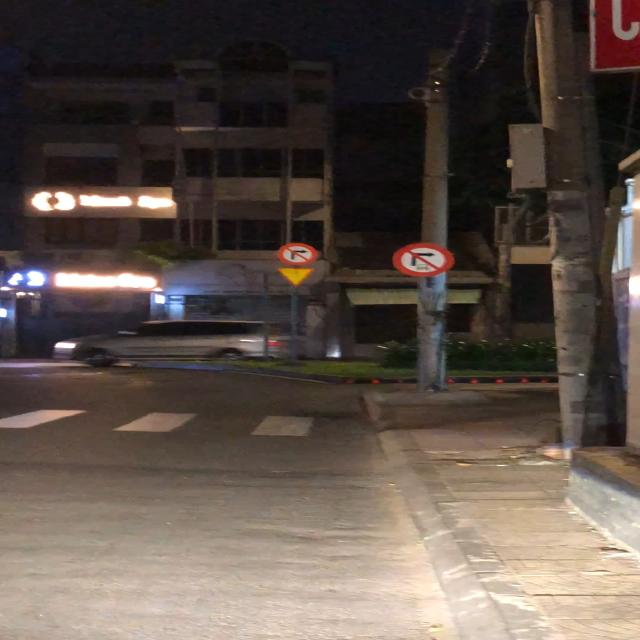Bien bao cam re phai: (274, 243, 320, 266)
Bien bao cam xe o to re phai: (392, 243, 456, 278)
Bien bao giao nhau voi duong uu tien: (276, 266, 316, 288)
